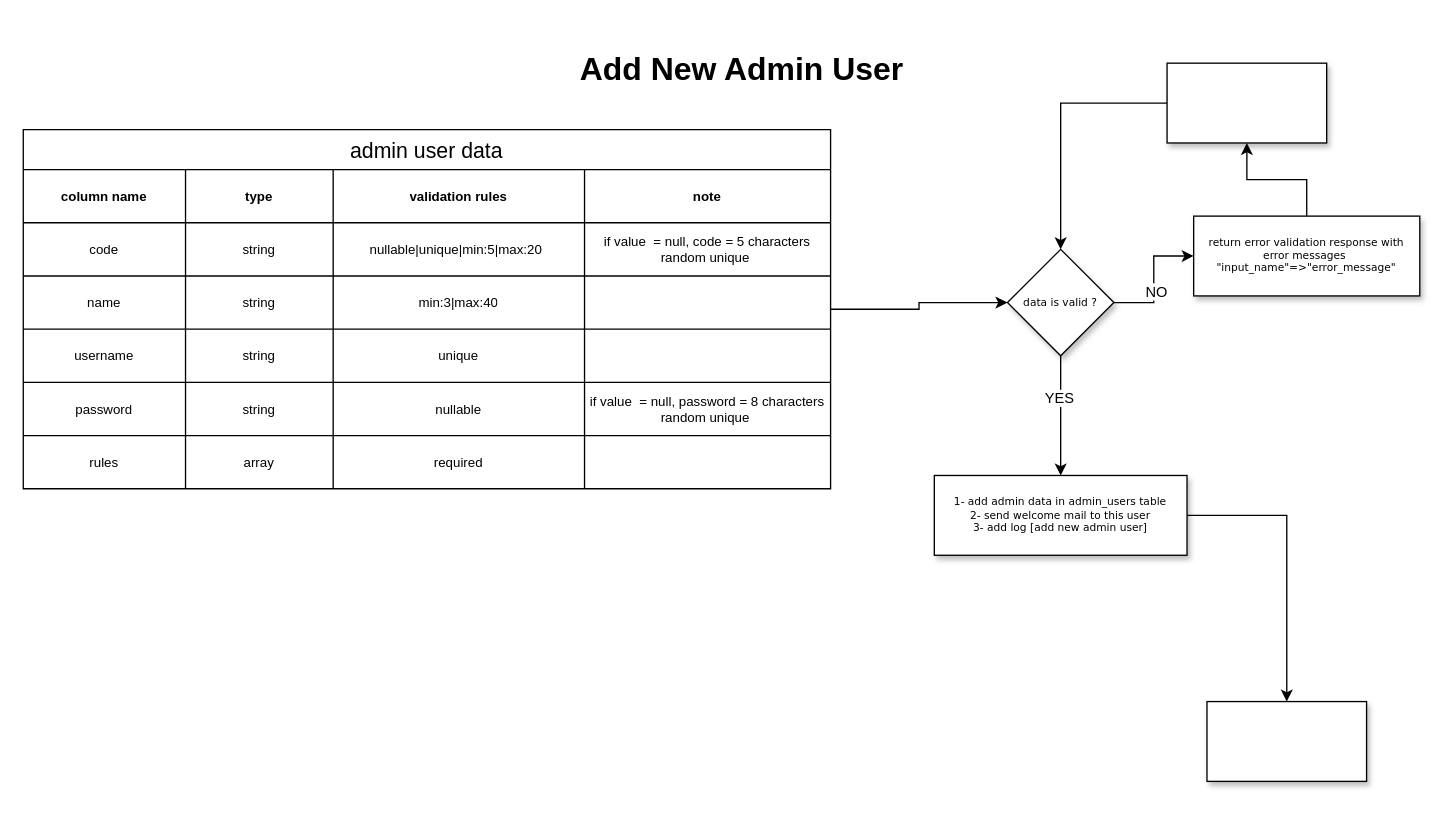
The diagram is 1451 pixels wide and 814 high, and some of its shapes have lost their labels. The shapes that lost their labels are listed below. From the top down, each one's centre as x and y in pixels, then its label:
(1247,104): send post request to add admin user
(1287,743): return success
